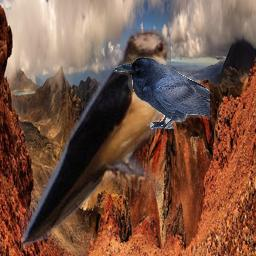Crow: (114, 57, 210, 129)
Swallow: (21, 29, 171, 251)
